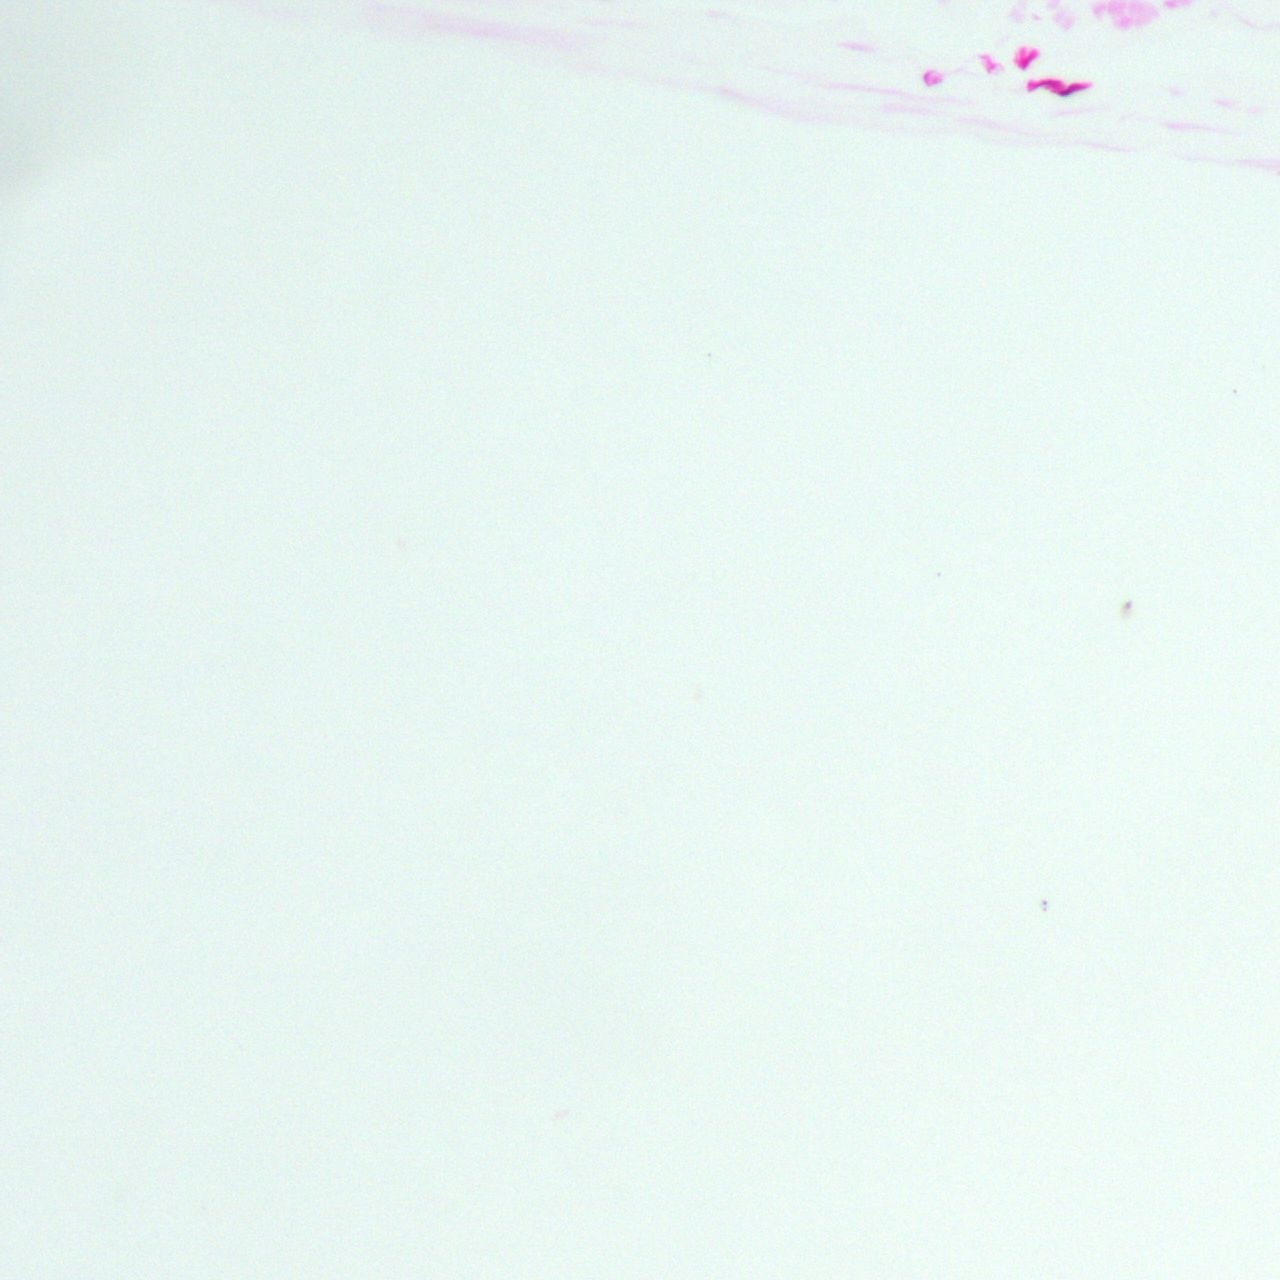dust: (1119, 599, 1133, 612), (1040, 898, 1048, 904), (1232, 388, 1237, 394), (1042, 907, 1046, 911)
nucleus-FG: (1058, 80, 1085, 97), (1027, 79, 1062, 91), (1020, 52, 1036, 70)
